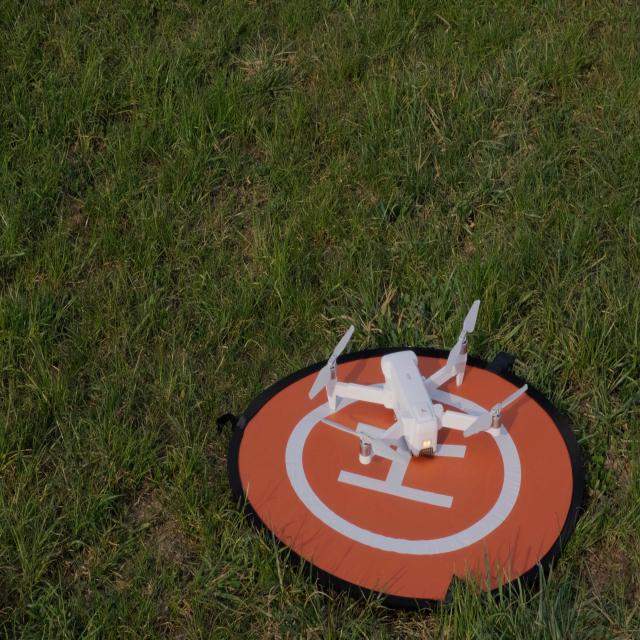drone: (308, 298, 528, 467)
